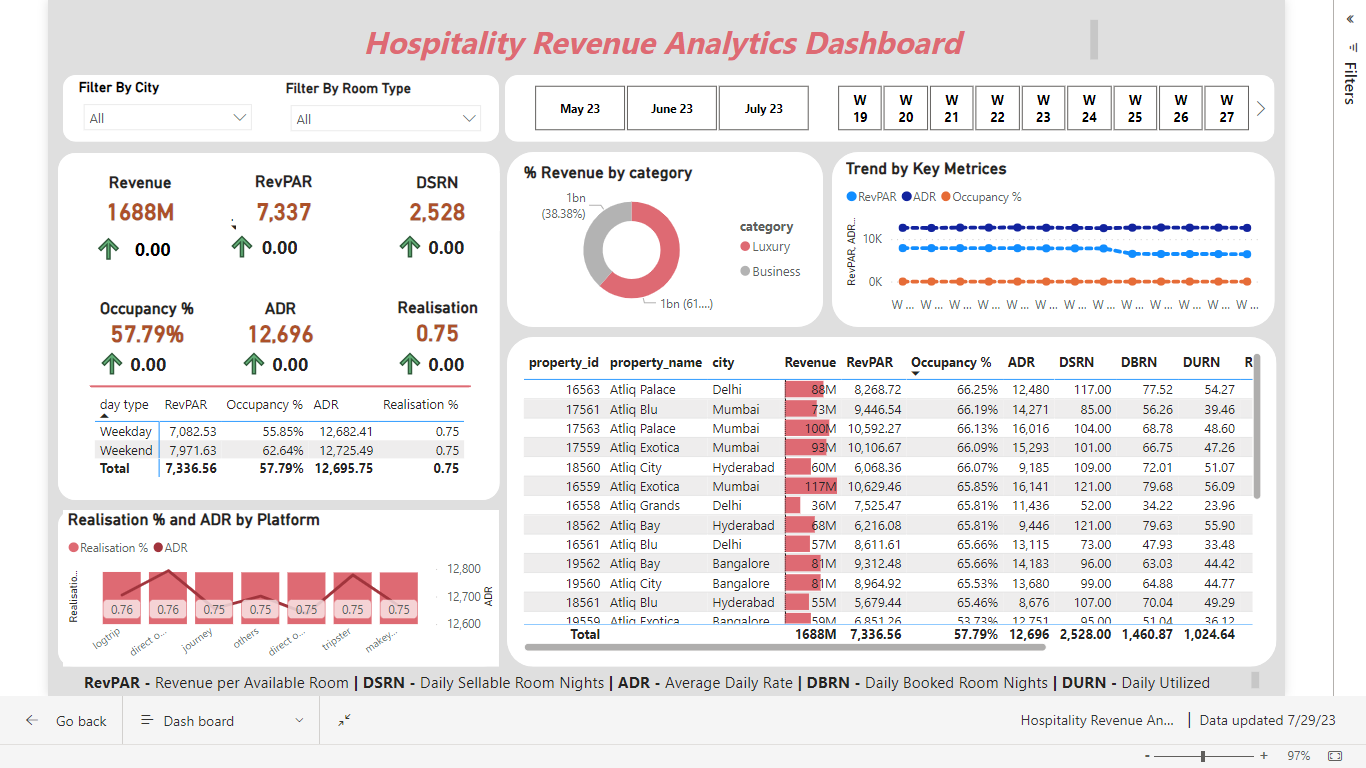

What the dashboard file says about the page in this screenshot:
{"tool":"powerbi","page":{"name":"Dash board","canvas":[1280,720],"ordinal":0},"visuals":[{"type":"shape","box":[10.1,158,456.5,359.4],"z":0},{"type":"shape","box":[15.8,77.8,450.7,69.1],"z":1000},{"type":"shape","box":[472.3,77.8,796.3,69.1],"z":2000},{"type":"shape","box":[475.2,157,326.9,181.4],"z":3000},{"type":"shape","box":[810.7,157,457.9,181.4],"z":4000},{"type":"shape","box":[475.2,348.5,796.3,357.1],"z":5000},{"type":"shape","box":[10.1,527.5,456.5,178.3],"z":6000},{"type":"donutChart","title":" % Revenue by category","fields":{"Category":["dim_hotels.category"],"Y":["_Measures.Revenue"]},"box":[487,168.1,307.2,160.9],"z":7000},{"type":"lineStackedColumnComboChart","title":"Realisation % and ADR by Platform","fields":{"Category":["fact_bookings.booking_platform"],"Y":["_Measures.Realisation %"],"Y2":["_Measures.ADR"]},"box":[15.6,542.8,450.7,147.4],"z":8000},{"type":"lineChart","title":"Trend by Key Metrices","fields":{"Category":["dim_date.week no"],"Y":["_Measures.RevPAR","_Measures.ADR","_Measures.Occupancy %"]},"box":[820.6,164.4,438,165.8],"z":9000},{"type":"tableEx","fields":{"Values":["dim_hotels.property_id","dim_hotels.property_name","dim_hotels.city","_Measures.Revenue","_Measures.RevPAR","_Measures.Occupancy %","_Measures.ADR","_Measures.DSRN","_Measures.DBRN","_Measures.DURN","_Measures.Realisation %","_Measures.Cancellation %"]},"box":[484.7,360,773.9,330.2],"z":10000},{"type":"slicer","title":"Filter By Room Type","fields":{"Values":["dim_date.mmm yy"]},"box":[477.6,82.2,333.1,59.5],"z":11000},{"type":"slicer","title":"Filter By Room Type","fields":{"Values":["dim_date.week no"]},"box":[790.9,82.2,474.8,59.5],"z":12000},{"type":"slicer","title":"Filter By City ","fields":{"Values":["dim_hotels.city"]},"box":[26.9,82.2,194.2,59.5],"z":13000},{"type":"slicer","title":"Filter By Room Type","fields":{"Values":["dim_rooms.room_class"]},"box":[240.6,82.6,217.4,59.4],"z":14000},{"type":"pivotTable","title":"Revenue","fields":{"Values":["_Measures.Revenue WoW Change %"]},"box":[25.5,216.9,120.5,60.9],"z":15000},{"type":"tableEx","title":"Revenue","fields":{"Values":["_Measures.RevPAR WoW change %"]},"box":[194.2,215.9,126.1,69.6],"z":16000},{"type":"tableEx","title":"Revenue","fields":{"Values":["_Measures.DSRN WoW Change %"]},"box":[352.2,208.7,114.5,87],"z":17000},{"type":"card","title":"DSRN","fields":{"Values":["_Measures.DSRN"]},"box":[337.3,192.8,129,46.8],"z":18000},{"type":"tableEx","title":"Revenue","fields":{"Values":["_Measures.Occupancy WoW Change"]},"box":[43.9,330.2,102,72.3],"z":19000},{"type":"tableEx","title":"Revenue","fields":{"Values":["_Measures.ADR WoW change %"]},"box":[189.9,330.2,102,100.6],"z":20000},{"type":"tableEx","title":"Revenue","fields":{"Values":["_Measures.Realisation WoW change %"]},"box":[351.5,330.2,102,72.3],"z":21000},{"type":"card","title":"Revenue","fields":{"Values":["_Measures.Revenue"]},"box":[46.8,192.8,96.4,46.8],"z":22000},{"type":"card","title":"RevPAR","fields":{"Values":["_Measures.RevPAR"]},"box":[194.2,192.8,93.5,46.8],"z":23000},{"type":"card","title":"Occupancy %","fields":{"Values":["_Measures.Occupancy %"]},"box":[43.9,310.4,116.2,49.6],"z":24000},{"type":"card","title":"ADR","fields":{"Values":["_Measures.ADR"]},"box":[187.1,309,106.3,51],"z":25000},{"type":"card","title":"Realisation","fields":{"Values":["_Measures.Realisation %"]},"box":[341.9,308.8,116.2,45],"z":26000},{"type":"pivotTable","fields":{"Rows":["dim_date.day type"],"Values":["_Measures.RevPAR","_Measures.Occupancy %","_Measures.ADR","_Measures.Realisation %"]},"box":[43.9,403.9,394,113.4],"z":27000},{"type":"shape","box":[43.9,395.4,394,8.5],"z":27001},{"type":"textbox","box":[187,15.9,904.3,52.2],"z":27002}]}

Visuals, with their boxes on the page's 1280x720 design canvas (x1, y1, x2, y2). These are canvas units, not pixel positions in the 1366x768 screenshot, which may show the page scaled, cropped or inside an application window:
shape: box(10, 158, 467, 517)
shape: box(16, 78, 466, 147)
shape: box(472, 78, 1269, 147)
shape: box(475, 157, 802, 338)
shape: box(811, 157, 1269, 338)
shape: box(475, 348, 1272, 706)
shape: box(10, 528, 467, 706)
" % Revenue by category" donutChart: box(487, 168, 794, 329)
"Realisation % and ADR by Platform" lineStackedColumnComboChart: box(16, 543, 466, 690)
"Trend by Key Metrices" lineChart: box(821, 164, 1259, 330)
tableEx - dim_hotels.property_id x dim_hotels.property_name: box(485, 360, 1259, 690)
"Filter By Room Type" slicer: box(478, 82, 811, 142)
"Filter By Room Type" slicer: box(791, 82, 1266, 142)
"Filter By City " slicer: box(27, 82, 221, 142)
"Filter By Room Type" slicer: box(241, 83, 458, 142)
"Revenue" pivotTable: box(26, 217, 146, 278)
"Revenue" tableEx: box(194, 216, 320, 286)
"Revenue" tableEx: box(352, 209, 467, 296)
"DSRN" card: box(337, 193, 466, 240)
"Revenue" tableEx: box(44, 330, 146, 402)
"Revenue" tableEx: box(190, 330, 292, 431)
"Revenue" tableEx: box(352, 330, 454, 402)
"Revenue" card: box(47, 193, 143, 240)
"RevPAR" card: box(194, 193, 288, 240)
"Occupancy %" card: box(44, 310, 160, 360)
"ADR" card: box(187, 309, 293, 360)
"Realisation" card: box(342, 309, 458, 354)
pivotTable - dim_date.day type x _Measures.RevPAR: box(44, 404, 438, 517)
shape: box(44, 395, 438, 404)
textbox: box(187, 16, 1091, 68)
